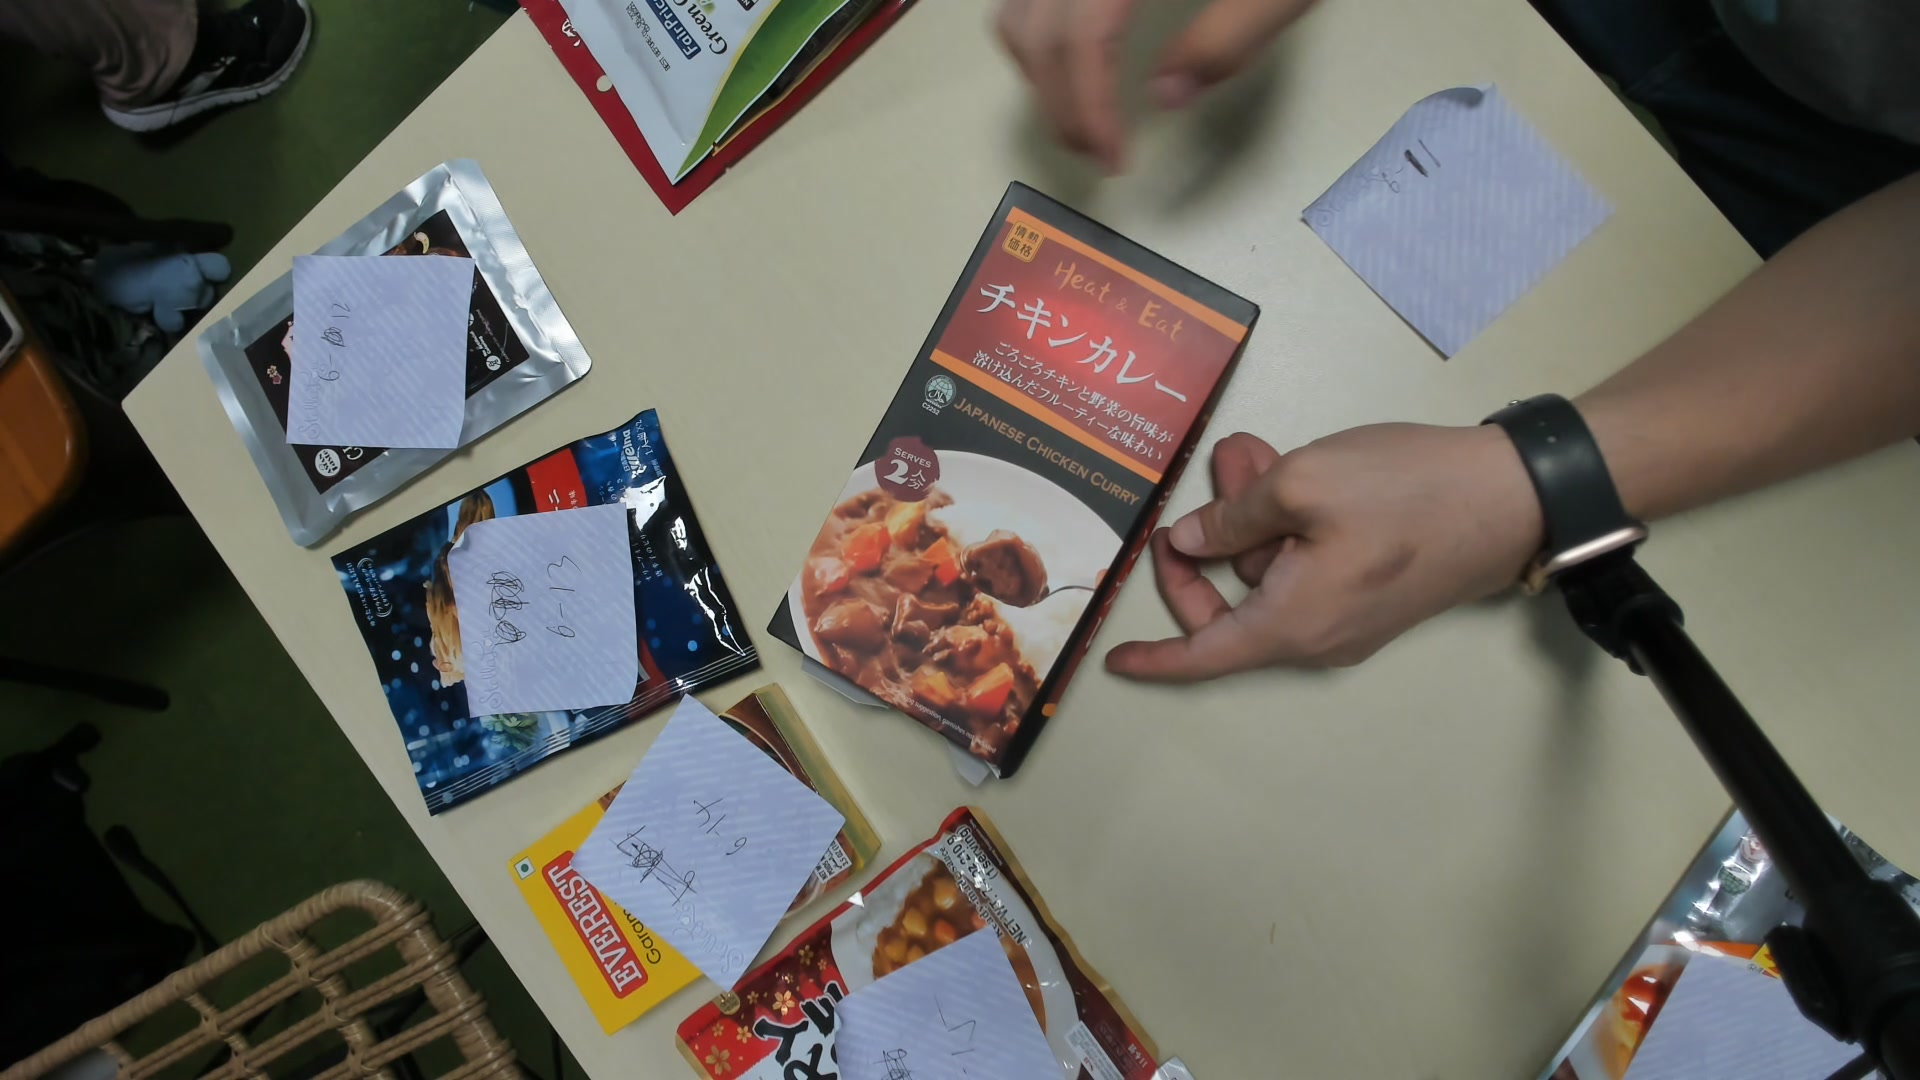CurryPastePowderSauce_200-299g_Halal_NonHealthy: (765, 182, 1251, 771)
